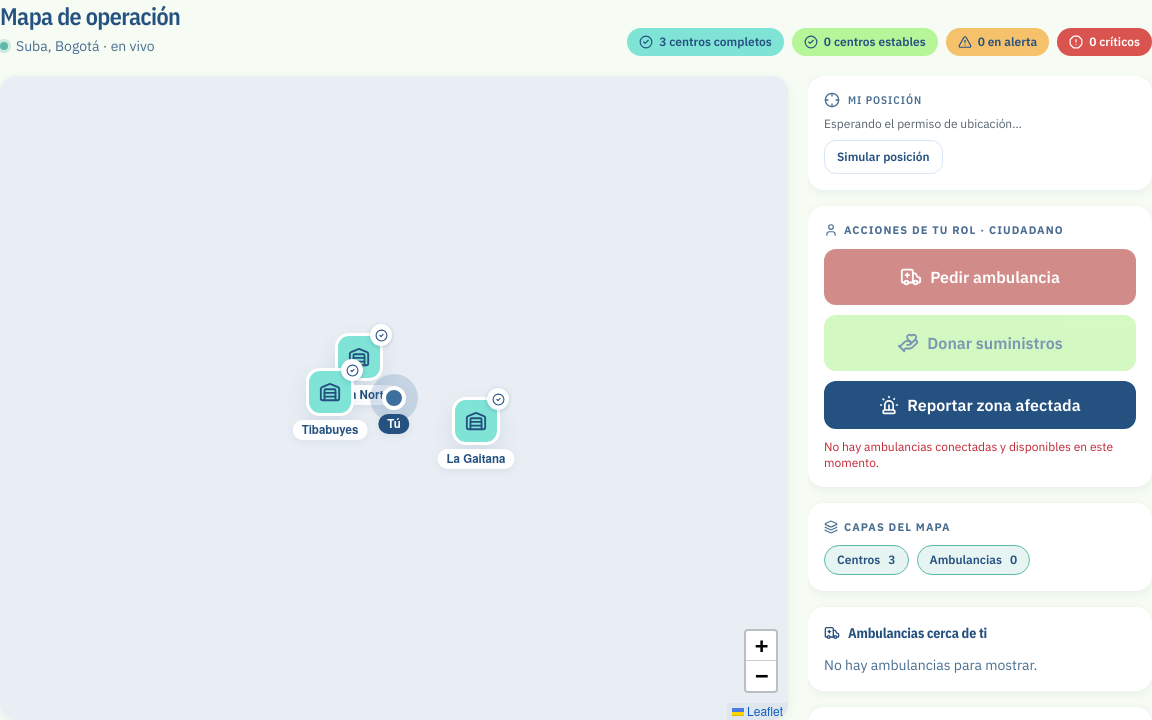
Test: CitizenMapPage donation off demo mode › shows the backend message to the donor who lost the race and closes the dialog
Click the button with class "nv-marker".
click(359, 357)  # box [335, 333, 383, 381]
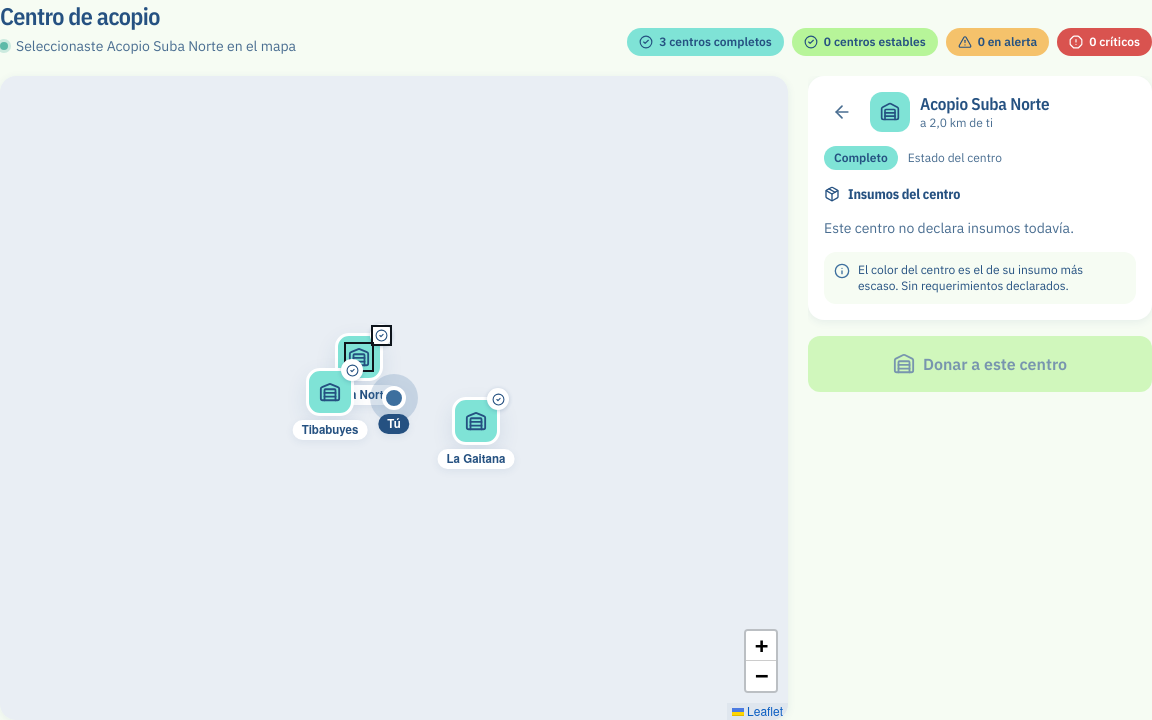
Click the button with class "nv-marker".
click(359, 357)  # box [335, 333, 383, 381]
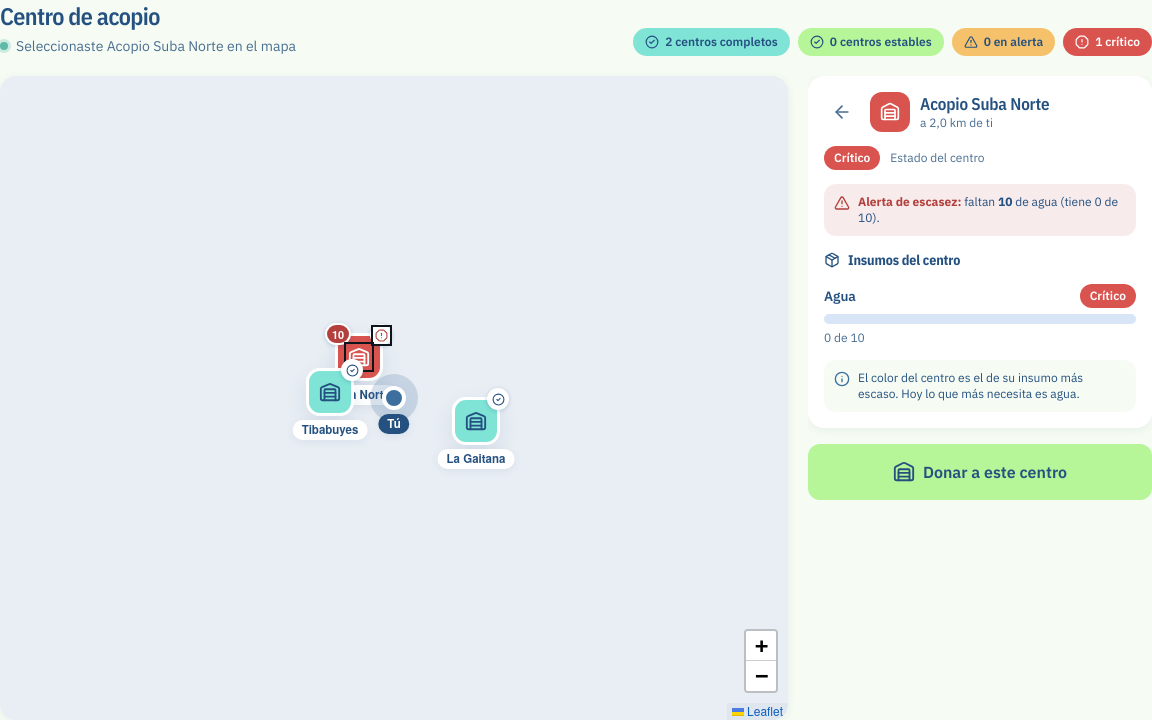
Click the button with class "nv-marker".
click(359, 357)  # box [335, 333, 383, 381]
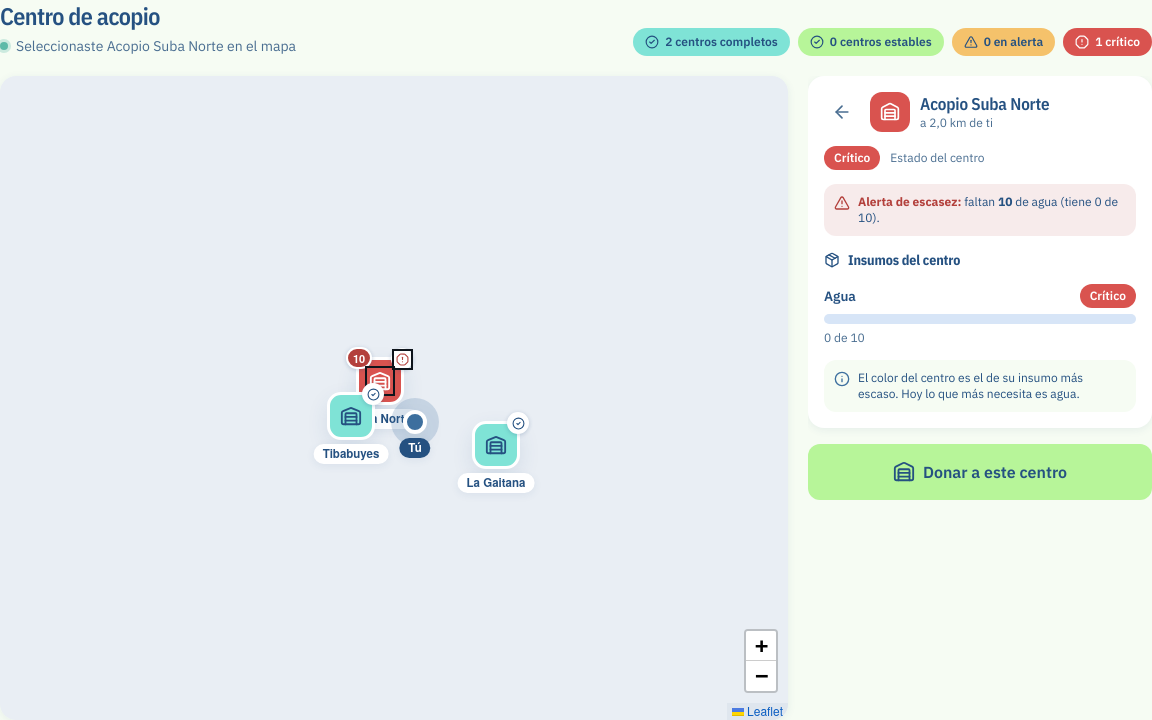
Expected: the button "Donar a este centro" is enabled
Click the button "Donar a este centro".
click(980, 472)  # box [808, 444, 1151, 500]
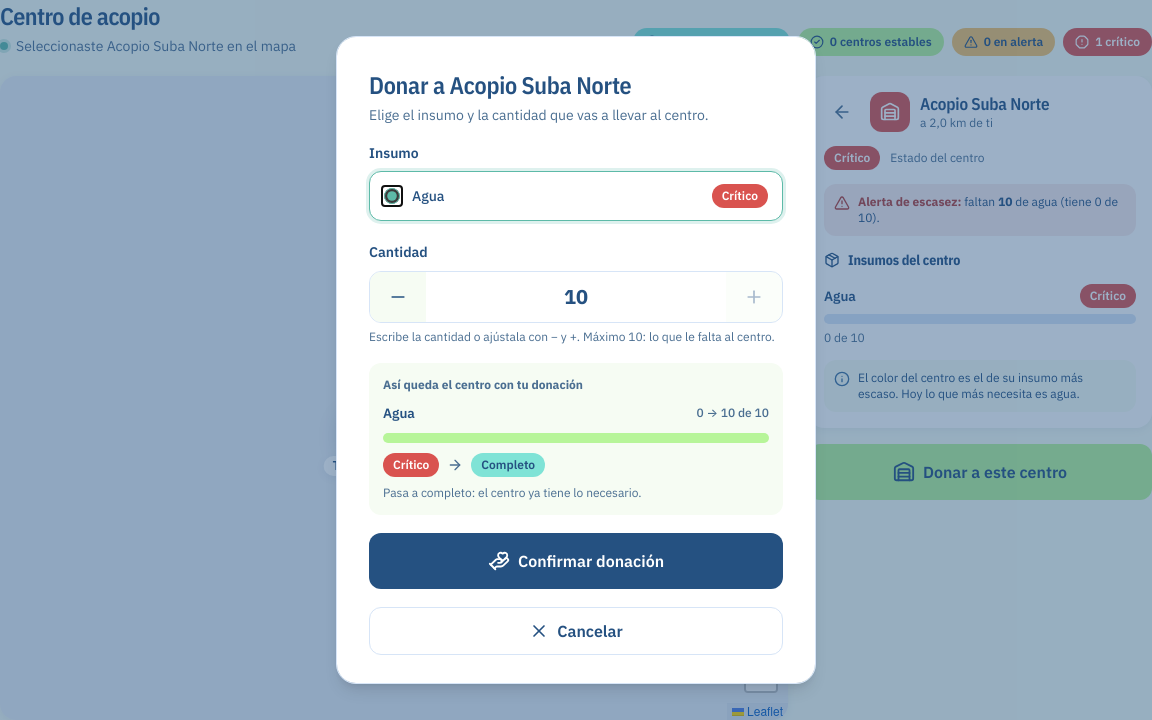
Click the button "Confirmar donación".
click(576, 561)  # box [369, 533, 783, 589]
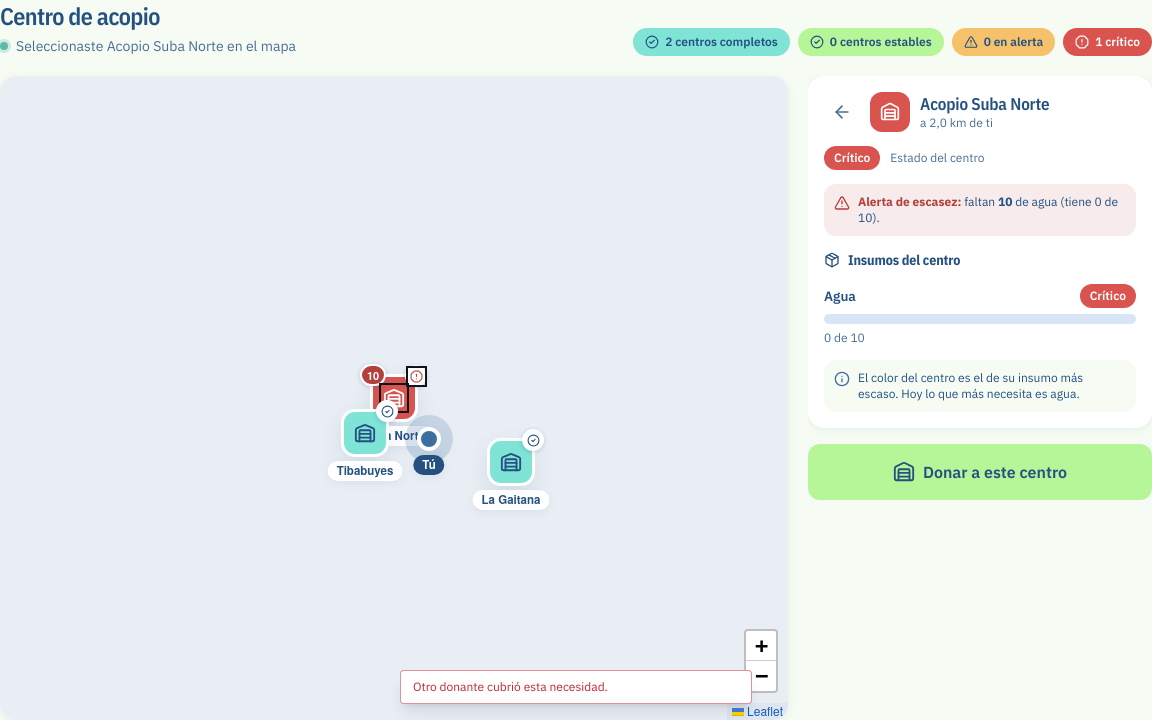
Expected: the list item "Otro donante cubrió esta necesidad." is shown, [400, 670, 752, 704]
Expected: the heading "Donar a Acopio Suba Norte" is gone
